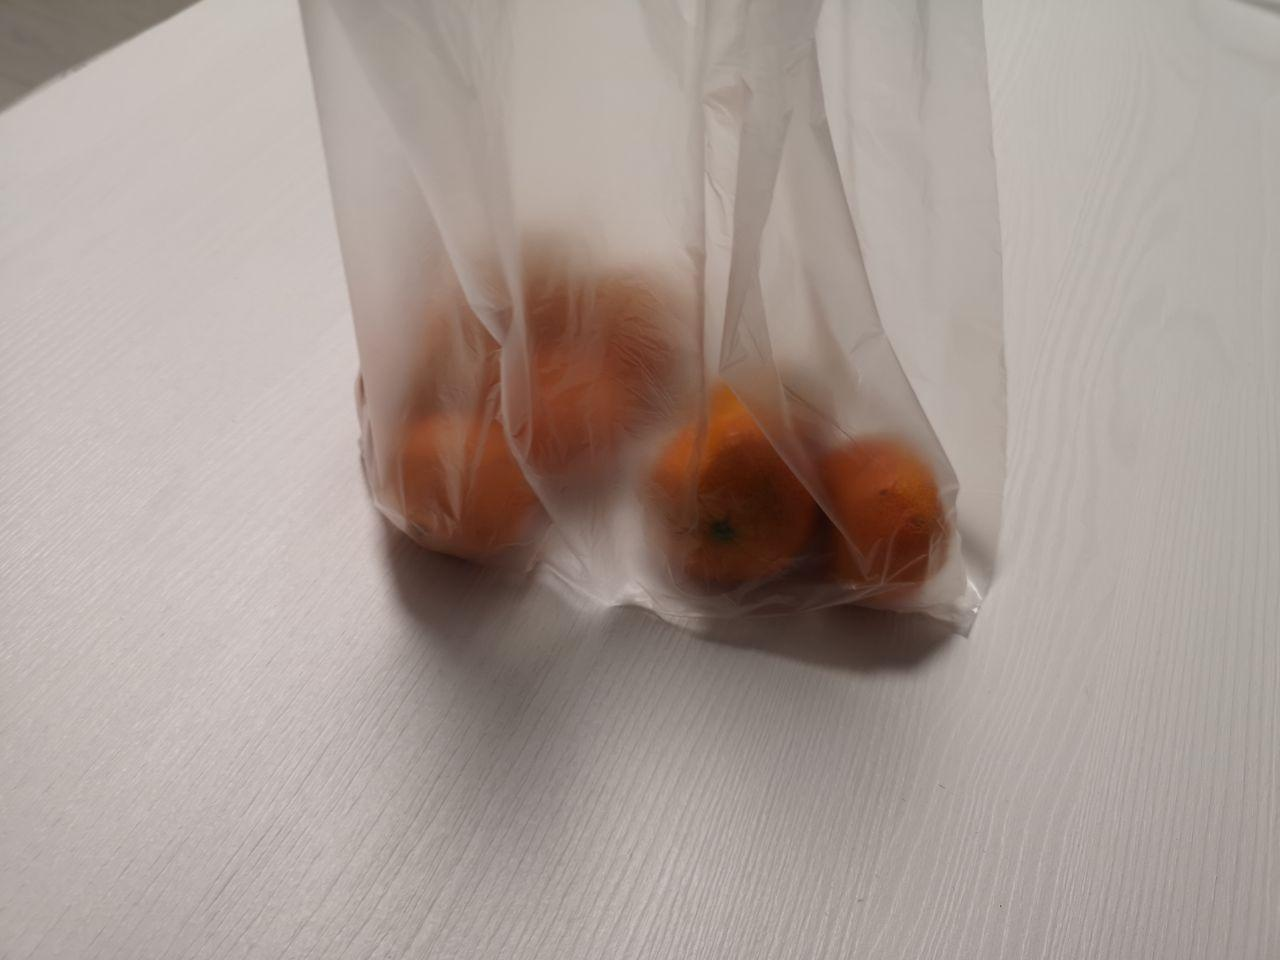clementin: (308, 216, 1001, 661)
